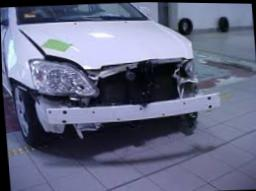Bonnet: (11, 29, 104, 73)
Bumper: (9, 77, 229, 135)
Light: (173, 50, 201, 78)
